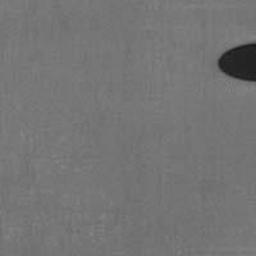Punching: (218, 42, 256, 83)
